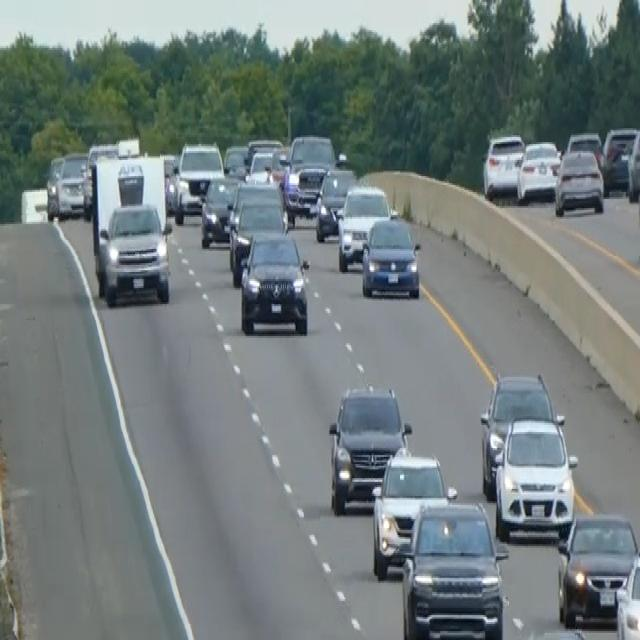car: (399, 496, 507, 638), (370, 446, 456, 580), (327, 380, 411, 514), (493, 411, 578, 542), (479, 370, 559, 498), (556, 510, 639, 628), (227, 183, 288, 283), (360, 212, 421, 298), (336, 181, 391, 272), (282, 132, 336, 218), (173, 139, 224, 222), (554, 147, 604, 217), (314, 164, 356, 242), (481, 130, 525, 199), (199, 173, 240, 247), (516, 137, 561, 203), (601, 124, 638, 192), (614, 550, 639, 638), (56, 149, 88, 217), (565, 128, 604, 171), (44, 153, 64, 219), (161, 151, 180, 213), (222, 142, 249, 180), (627, 126, 639, 201)
jeep: (237, 228, 311, 338)
truck: (89, 151, 172, 306)
